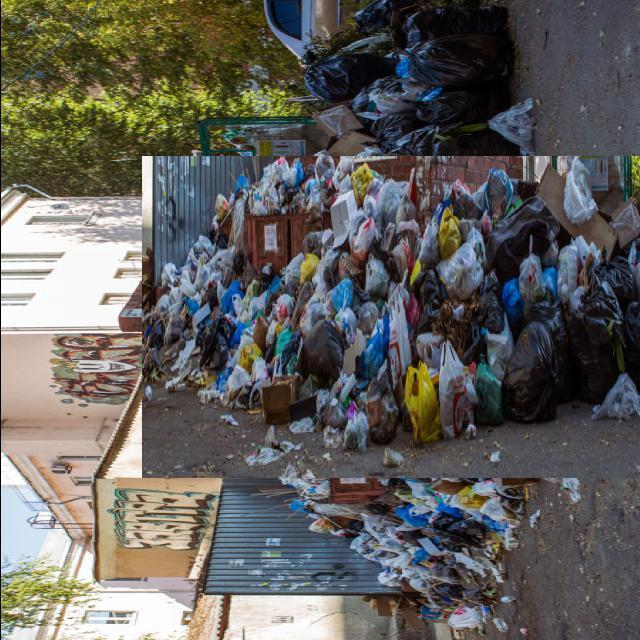Trashbag: (511, 294, 565, 428), (407, 29, 513, 90), (570, 291, 619, 405), (304, 44, 391, 102), (397, 123, 520, 157), (496, 203, 558, 269), (401, 3, 510, 40), (416, 85, 498, 130), (298, 324, 344, 376), (197, 320, 234, 370), (596, 253, 631, 299), (476, 282, 506, 331), (624, 308, 640, 367)
